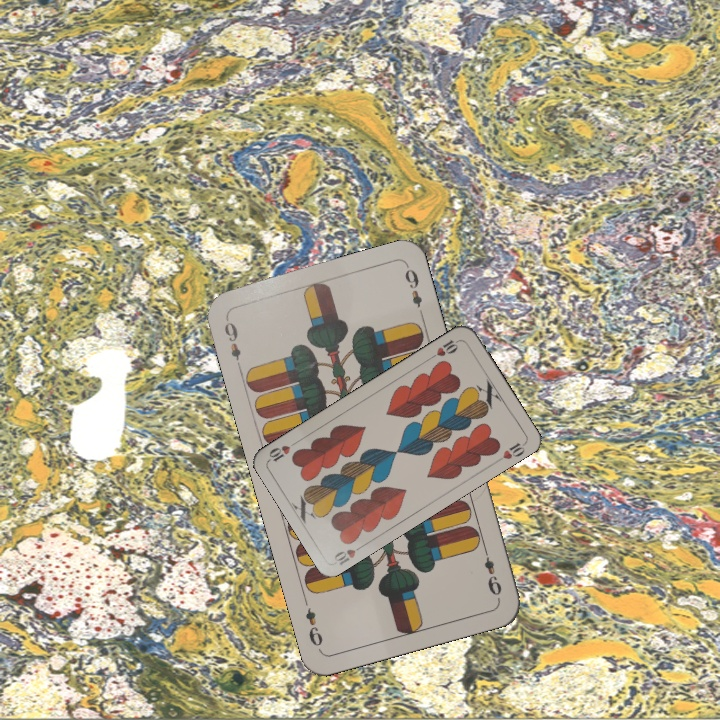E9: (220, 314, 244, 372), (479, 543, 504, 598)
H10: (330, 540, 368, 568), (426, 336, 462, 362)
